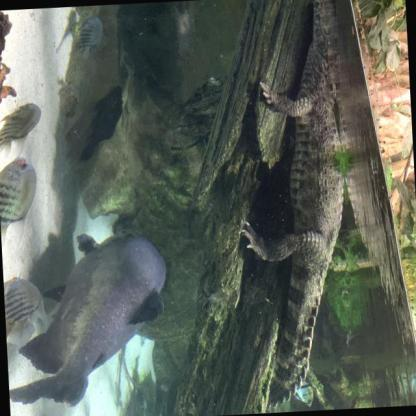fish: (1, 224, 176, 414), (0, 155, 42, 250), (3, 270, 50, 348), (0, 99, 46, 160), (69, 15, 107, 62), (294, 376, 314, 410), (69, 4, 121, 17)
